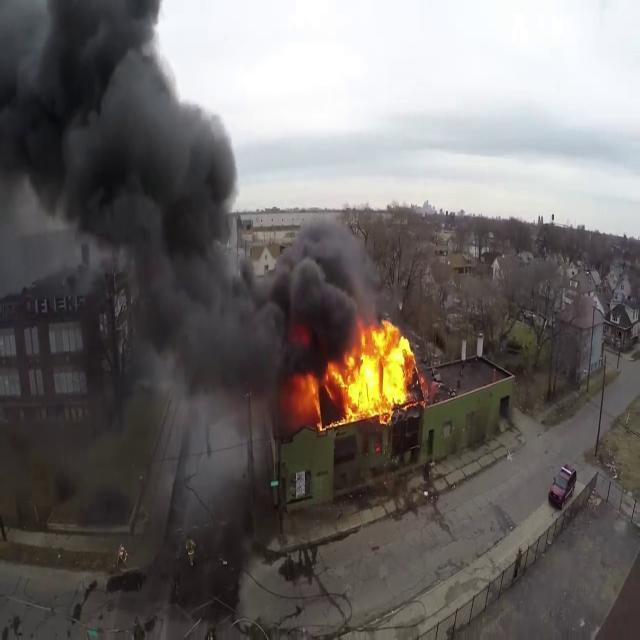Fire: (305, 316, 421, 426)
Smoke: (0, 0, 368, 416)
